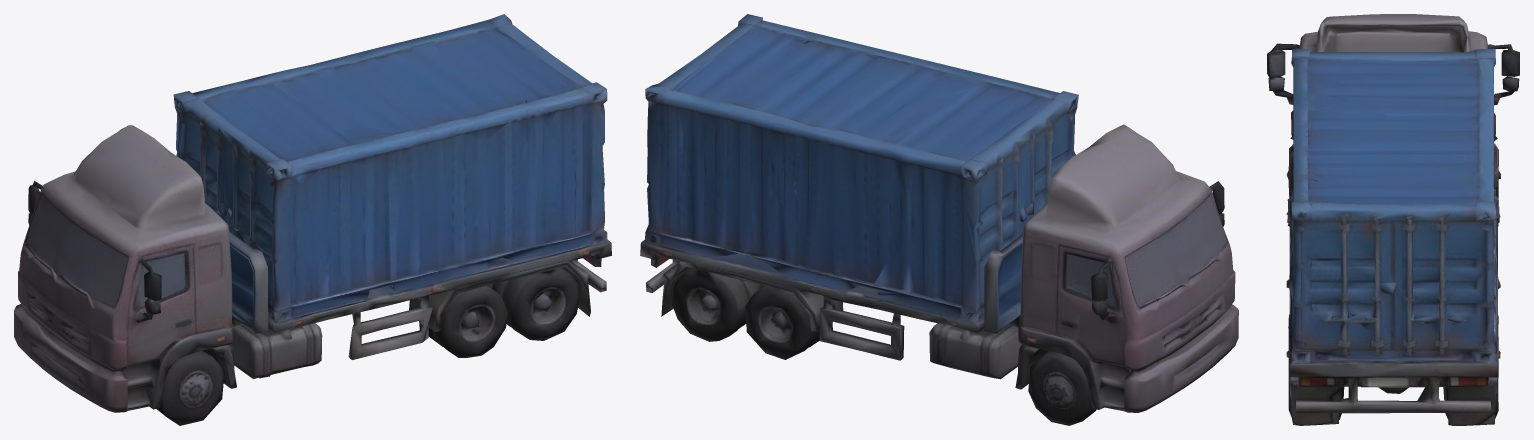
Rendered from truck_container.glb.
The picture shows the model from 3 angles, left to right: view 1: azimuth 30°, elevation 25°; view 2: azimuth 150°, elevation 25°; view 3: azimuth 270°, elevation 25°; orthographic projection.
Visible parts, largest first — view 1: tripo_node_4ed5550c-8076-4d10-b5fd-9e426a2ae085; view 2: tripo_node_4ed5550c-8076-4d10-b5fd-9e426a2ae085; view 3: tripo_node_4ed5550c-8076-4d10-b5fd-9e426a2ae085.
Part boxes in pixels (box(x1,y1,x2,y2)): tripo_node_4ed5550c-8076-4d10-b5fd-9e426a2ae085: box(14, 14, 611, 425); tripo_node_4ed5550c-8076-4d10-b5fd-9e426a2ae085: box(640, 14, 1238, 425); tripo_node_4ed5550c-8076-4d10-b5fd-9e426a2ae085: box(1267, 14, 1519, 425).
Size of the model in its own units: 1 by 0.4488 by 0.4341.
1 material, 1 textured.
